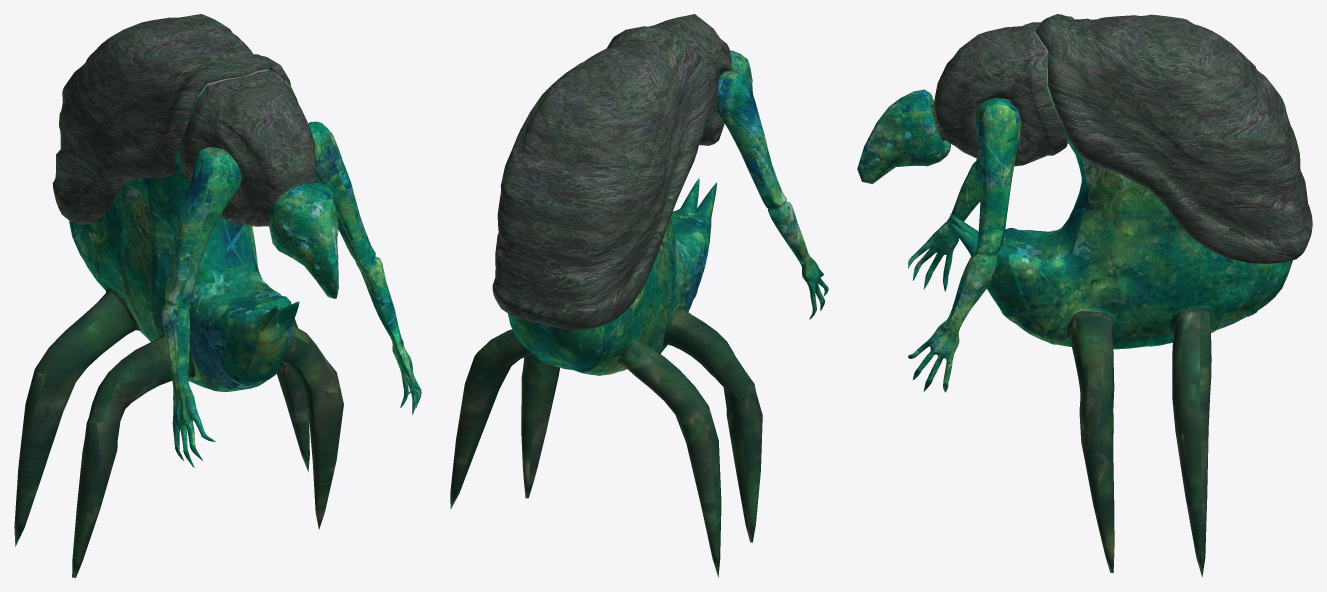
The model's file is Andar.0010.obj.
3 views of the same model, side by side, from view 1: azimuth 30°, elevation 25°; view 2: azimuth 150°, elevation 25°; view 3: azimuth 270°, elevation 25° (orthographic). The views are drawn at different scales.
Parts seen in each view (by area): view 1: pCube14; view 2: pCube14; view 3: pCube14.
Part boxes in pixels (<box>): pCube14: <box>14,14,421,577</box>; pCube14: <box>450,14,828,577</box>; pCube14: <box>857,14,1312,576</box>.
Size of the model in its own units: 2.33 by 3.92 by 3.26.
5 materials, 4 textured.
